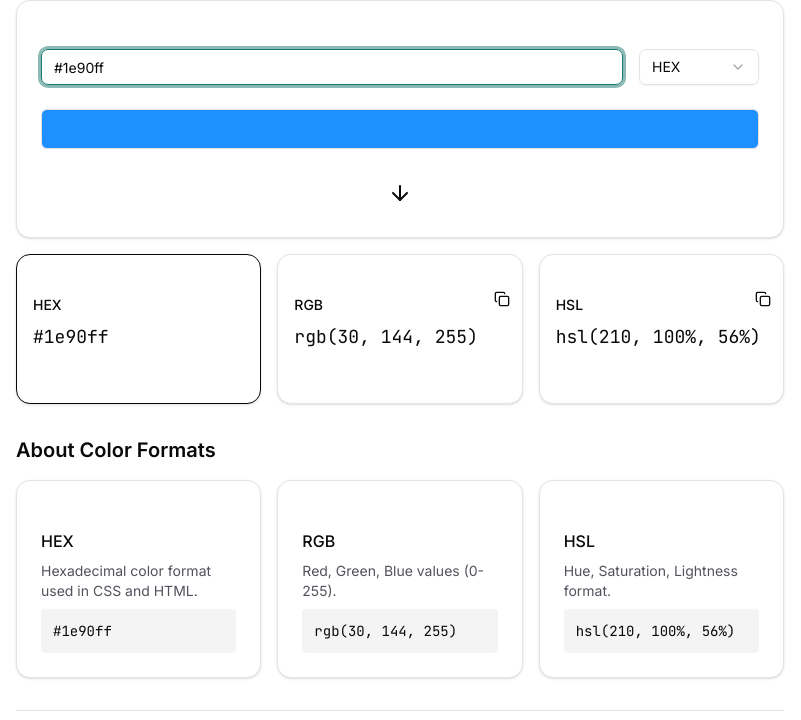
it: ColorConverter › handles invalid input correctly
Step 1. Replace the text in the field with "not-a-color" → (332, 67), box left=41, top=49, right=623, bottom=85
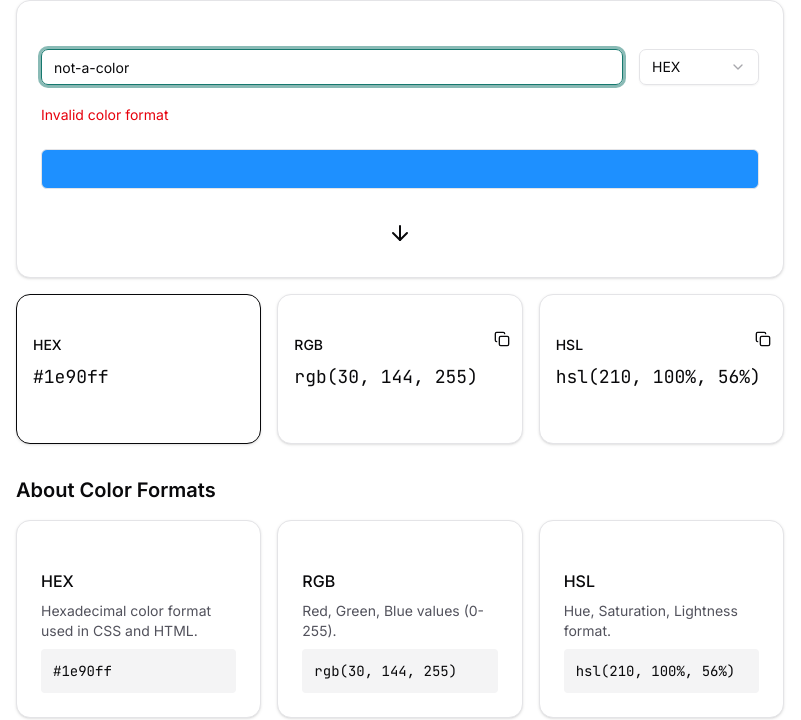
expect the text "Invalid color format" is shown: met, box left=41, top=106, right=168, bottom=123
